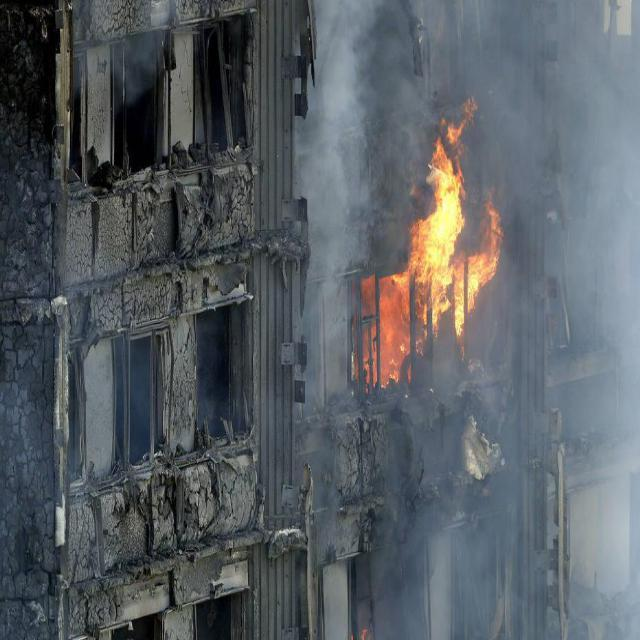Fire: (356, 100, 506, 394)
Smoke: (511, 100, 635, 374), (330, 1, 626, 95)
